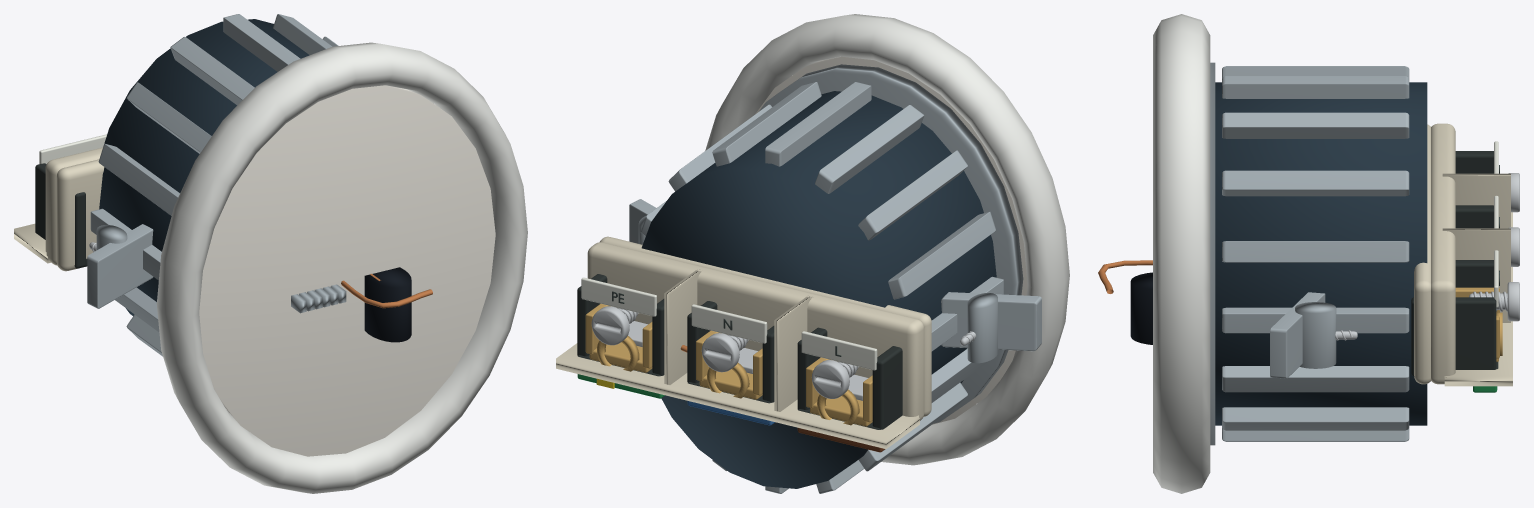
File: lamp_downlight.glb
3 views of the same model, side by side, from view 1: azimuth 30°, elevation 25°; view 2: azimuth 150°, elevation 25°; view 3: azimuth 270°, elevation 25° (orthographic).
Visible parts, largest first — view 1: part:cover, part:body, part:body · Original 2a8198d3, part:terminals · Original 5a609f27, part:mounting · Original 2a8198d3, part:electronics · Original 3ff2d46d, detail:terminal-clamp:L · Detail moulded engineering polymer, part:electronics · Original 2a8198d3, Moulded terminal legend pad, part:electronics · Original db0da9ae; view 2: part:body, part:cover, part:body · Original 2a8198d3, part:terminals · Original 5a609f27, part:mounting · Original 2a8198d3, detail:terminal-clamp:L · Detail moulded engineering polymer, detail:terminal-clamp:PE · Detail machined brass, detail:terminal-clamp:N · Detail machined brass, detail:terminal-clamp:L · Detail machined brass, detail:terminal-clamp:PE · Detail moulded engineering polyme, detail:terminal-clamp:N · Detail moulded engineering polymer, Moulded terminal legend pad (+5 smaller); view 3: part:body, part:body · Original 2a8198d3, part:cover, part:terminals · Original 5a609f27, part:mounting · Original 2a8198d3, detail:terminal-clamp:PE · Detail moulded engineering polyme, part:electronics · Original 3ff2d46d, detail:terminal-clamp:N · Detail moulded engineering polymer, detail:terminal-clamp:L · Detail moulded engineering polymer, detail:terminal-clamp:PE · Detail zinc plated fixing, detail:terminal-clamp:PE · Detail machined brass, part:electronics · Original db0da9ae.
Boxes of the visible parts, <box> form: part:cover: <box>156,42,527,493</box>; part:body: <box>99,19,309,315</box>; part:body · Original 2a8198d3: <box>90,14,338,356</box>; part:terminals · Original 5a609f27: <box>14,147,104,271</box>; part:mounting · Original 2a8198d3: <box>87,224,153,308</box>; part:electronics · Original 3ff2d46d: <box>364,267,411,342</box>; detail:terminal-clamp:L · Detail moulded engineering polymer: <box>35,163,87,268</box>; part:electronics · Original 2a8198d3: <box>291,284,346,313</box>; Moulded terminal legend pad: <box>39,134,106,163</box>; part:electronics · Original db0da9ae: <box>341,273,432,308</box>; part:body: <box>641,91,996,488</box>; part:cover: <box>705,14,1069,465</box>; part:body · Original 2a8198d3: <box>640,64,1023,493</box>; part:terminals · Original 5a609f27: <box>556,236,931,448</box>; part:mounting · Original 2a8198d3: <box>629,199,1041,363</box>; detail:terminal-clamp:L · Detail moulded engineering polymer: <box>797,327,902,429</box>; detail:terminal-clamp:PE · Detail machined brass: <box>585,304,652,372</box>; detail:terminal-clamp:N · Detail machined brass: <box>696,330,762,399</box>; detail:terminal-clamp:L · Detail machined brass: <box>806,357,872,426</box>; detail:terminal-clamp:PE · Detail moulded engineering polyme: <box>577,274,664,376</box>; detail:terminal-clamp:N · Detail moulded engineering polymer: <box>687,301,774,403</box>; Moulded terminal legend pad: <box>801,331,877,370</box>; part:body: <box>1215,82,1427,425</box>; part:body · Original 2a8198d3: <box>1210,62,1409,445</box>; part:cover: <box>1153,14,1210,493</box>; part:terminals · Original 5a609f27: <box>1414,123,1512,386</box>; part:mounting · Original 2a8198d3: <box>1270,292,1336,378</box>; detail:terminal-clamp:PE · Detail moulded engineering polyme: <box>1411,260,1498,375</box>; part:electronics · Original 3ff2d46d: <box>1130,272,1152,344</box>; detail:terminal-clamp:N · Detail moulded engineering polymer: <box>1455,205,1493,228</box>; detail:terminal-clamp:L · Detail moulded engineering polymer: <box>1455,151,1493,173</box>; detail:terminal-clamp:PE · Detail zinc plated fixing: <box>1469,282,1519,321</box>; detail:terminal-clamp:PE · Detail machined brass: <box>1455,287,1502,361</box>; part:electronics · Original db0da9ae: <box>1098,260,1152,293</box>.
Bounding box in the file's own units: 0.6297 × 0.6491 × 0.5557.
